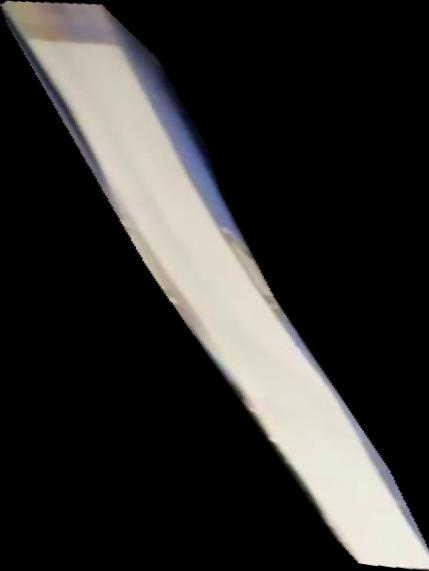backward: (1, 1, 429, 571)
